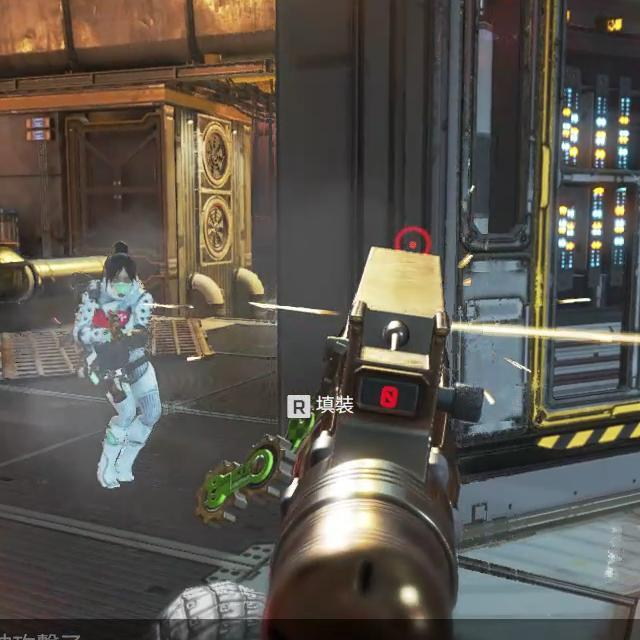avatar: (72, 240, 164, 489)
